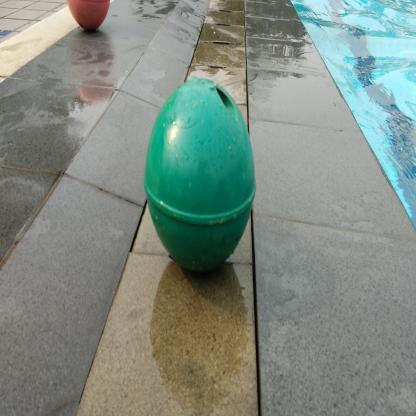green_buoy: (139, 76, 263, 281)
